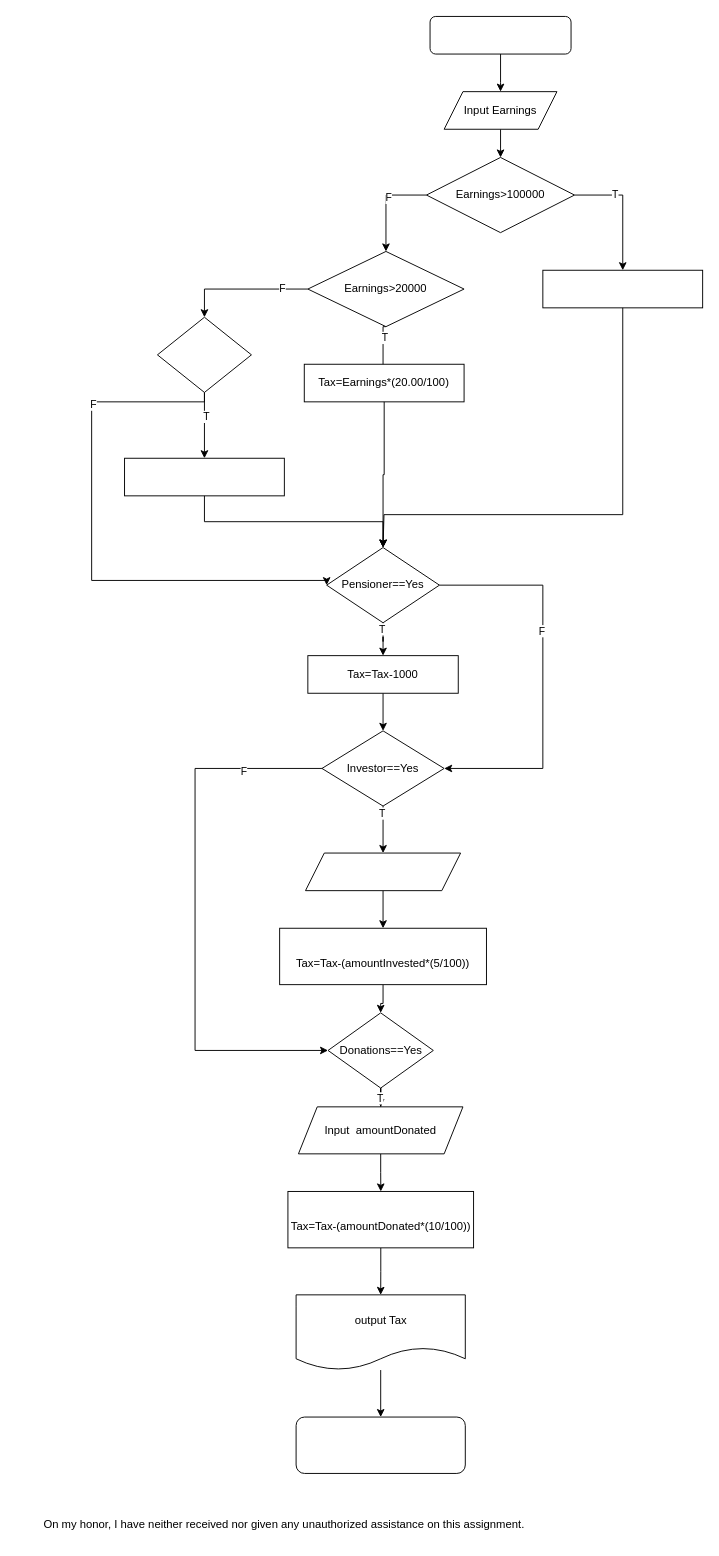
Some shapes in this 719 by 1556 pixel diagram are drawn without their labels. Each missing label, with the centre of its shape:
Begin: the point at 500,35
Earnings>0: the point at 204,354
End: the point at 380,1444
Input amountInvested: the point at 383,871
Tax=Earnings*(10.00/100): the point at 204,476
Tax=Earnings*(35.00/100): the point at 622,288
